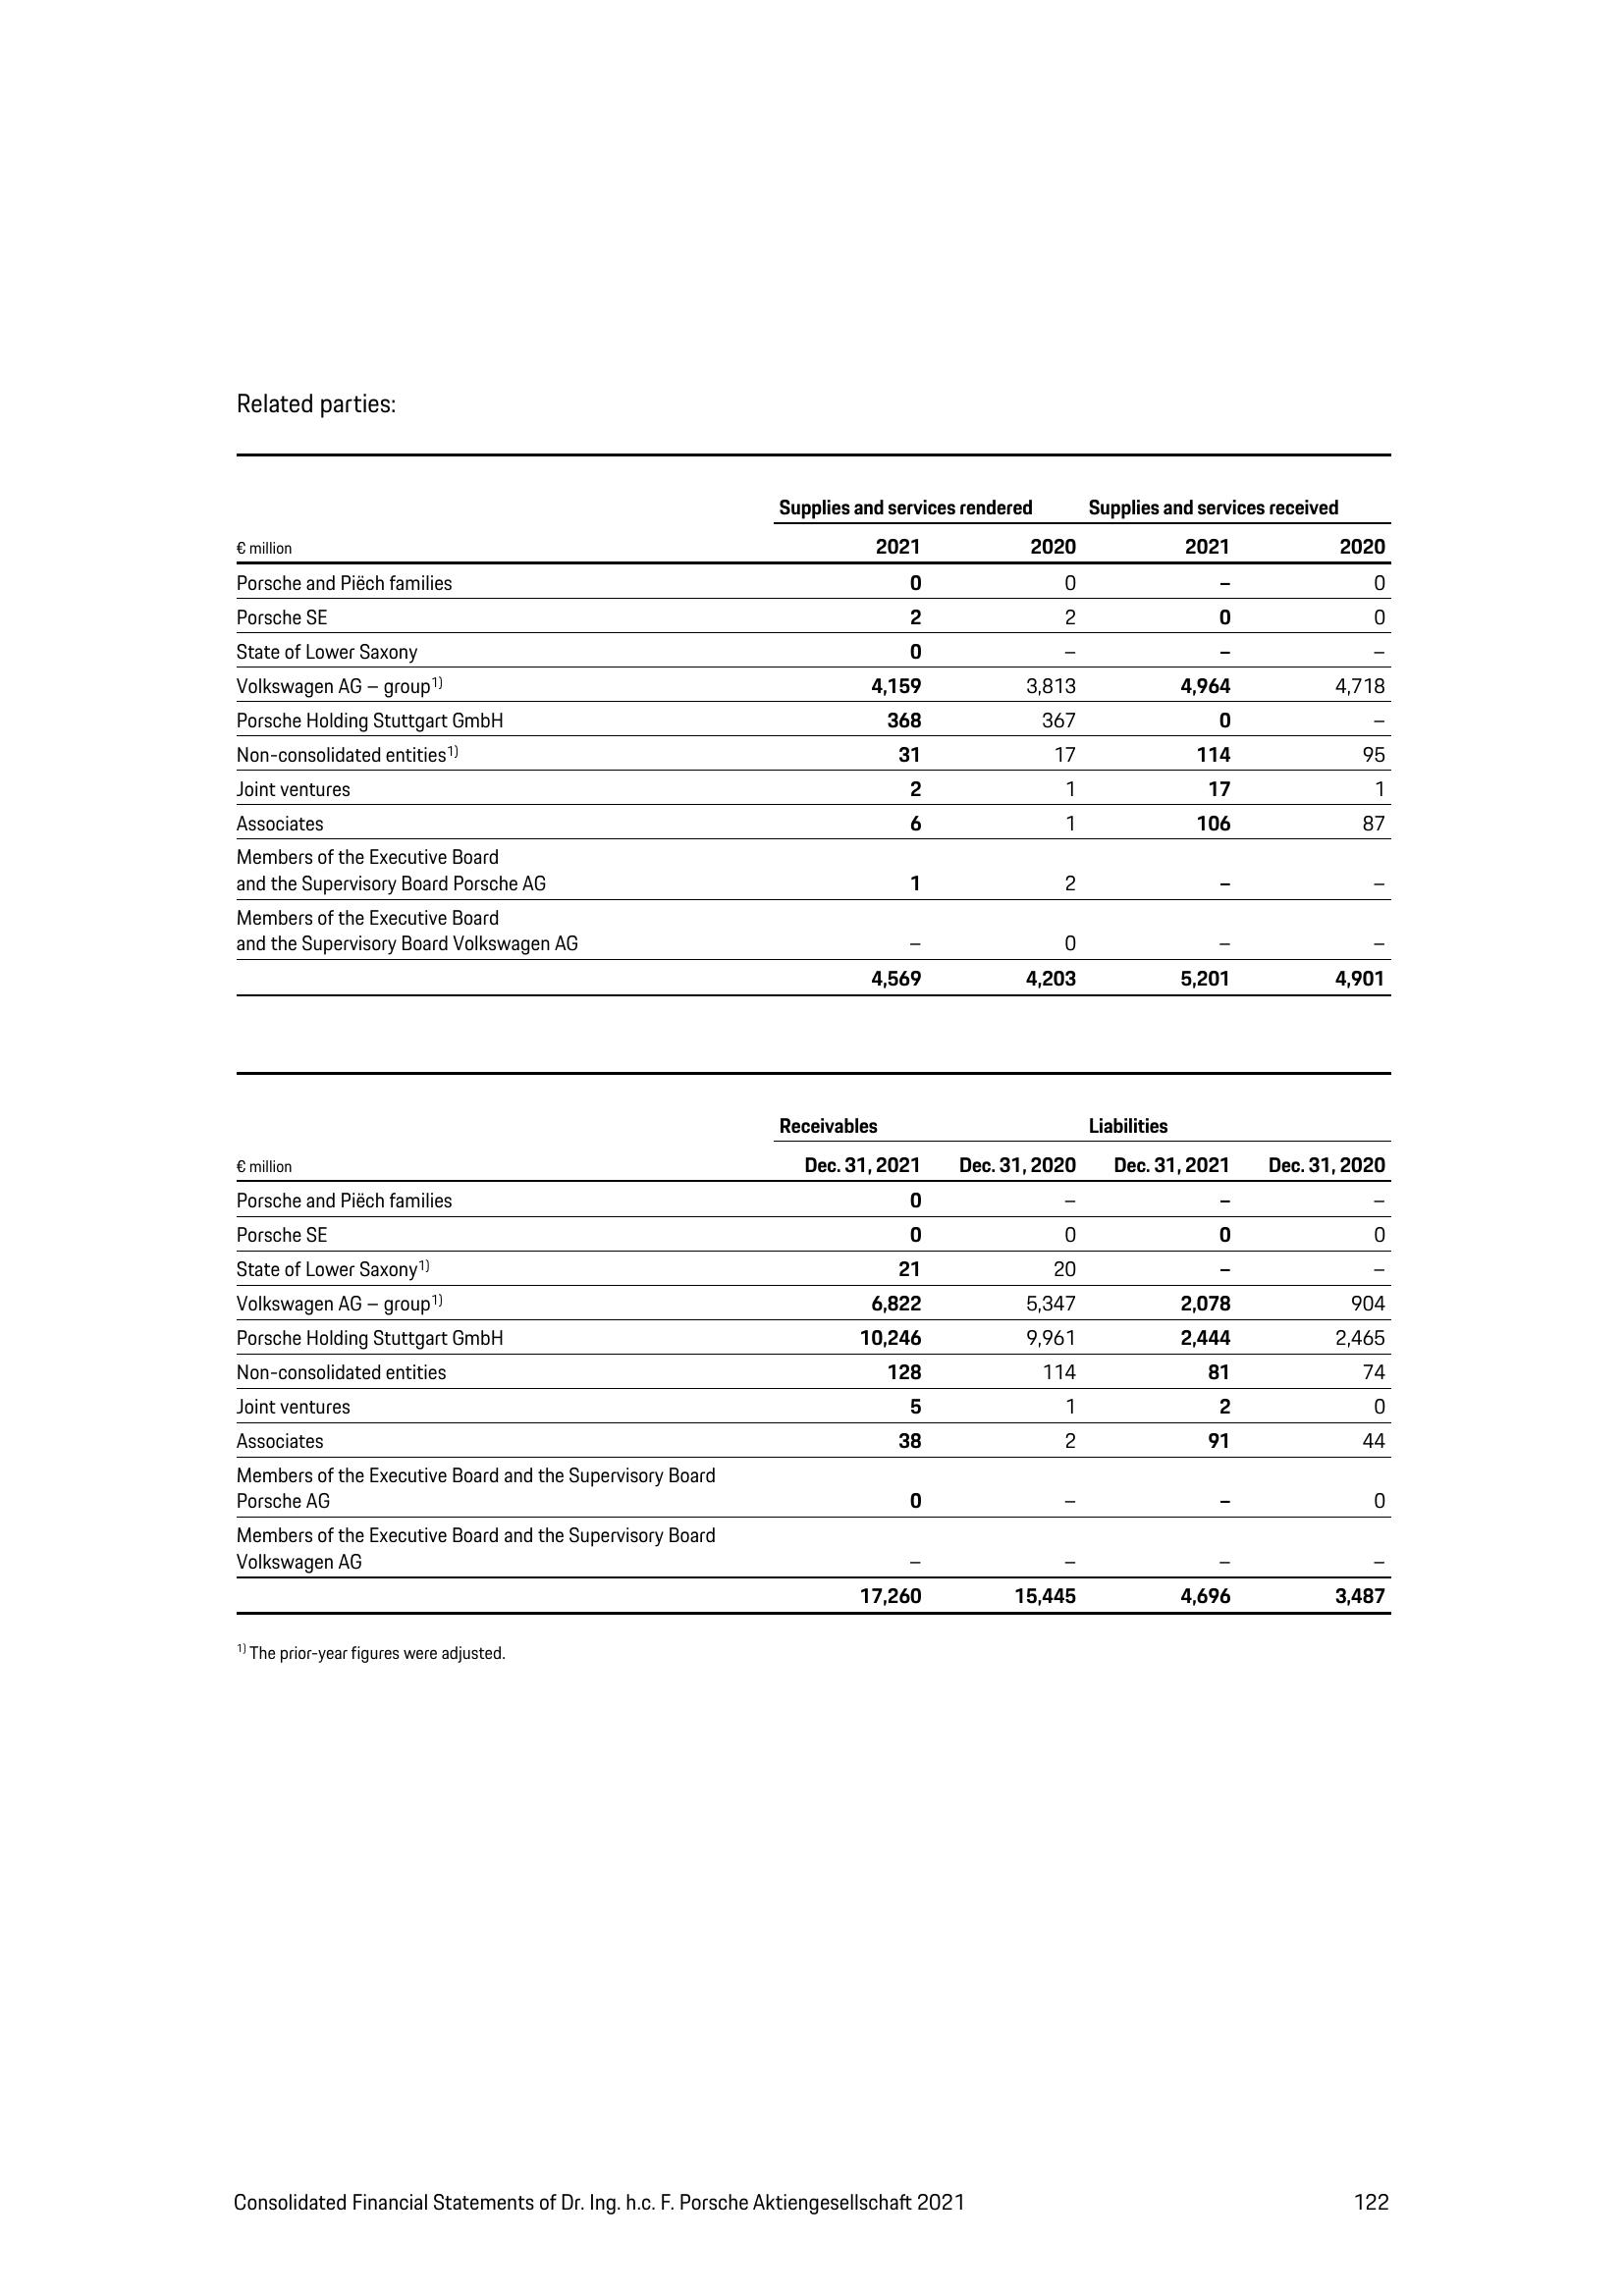Footer: (5, 2143, 1624, 2296)
Header: (0, 0, 1624, 269)
Table: (190, 1061, 1434, 1616), (199, 453, 1443, 1007)
